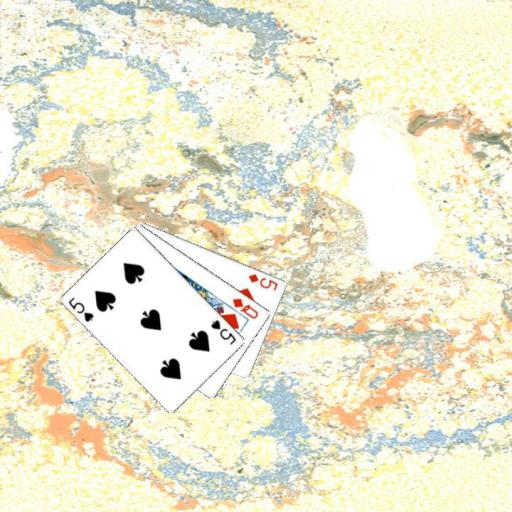5D: (246, 270, 280, 292)
5S: (208, 317, 238, 347), (66, 294, 96, 324)
QD: (230, 295, 260, 320)
